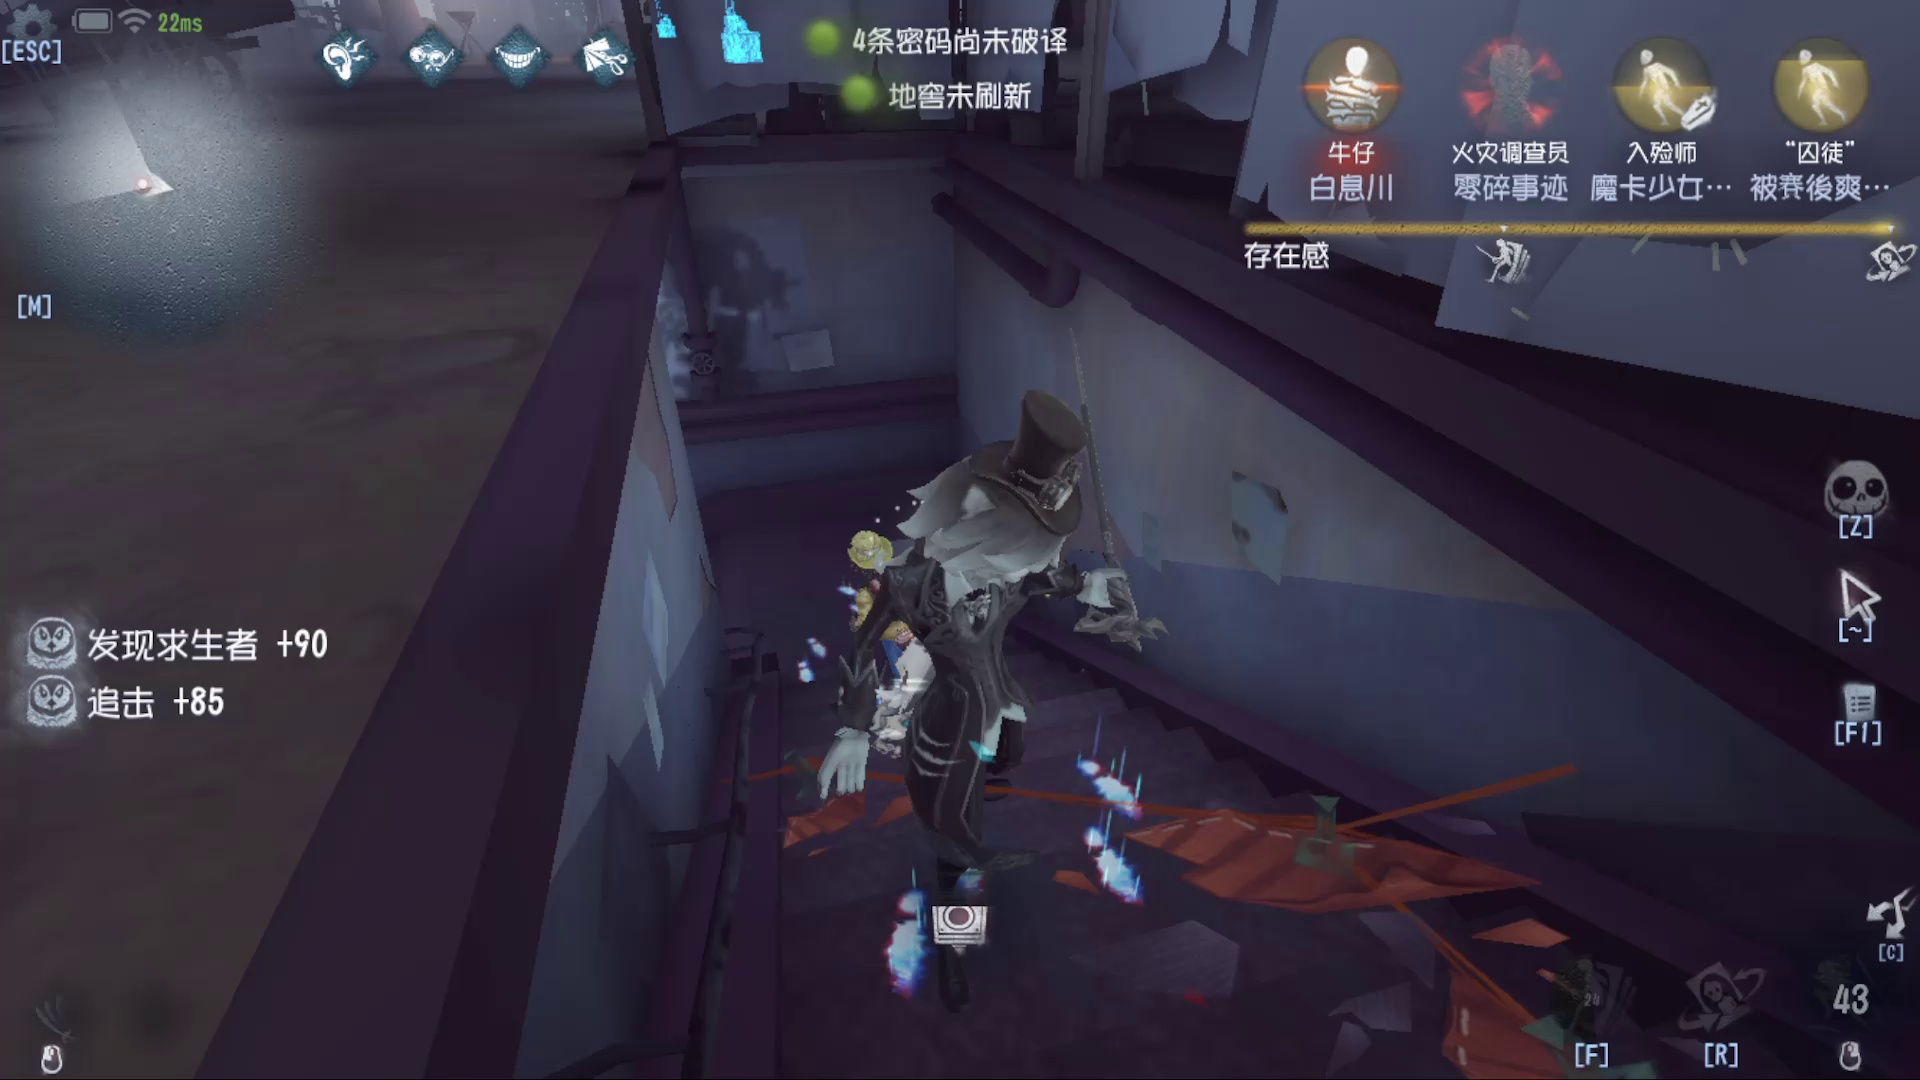脚印: (1098, 713, 1577, 1002)
